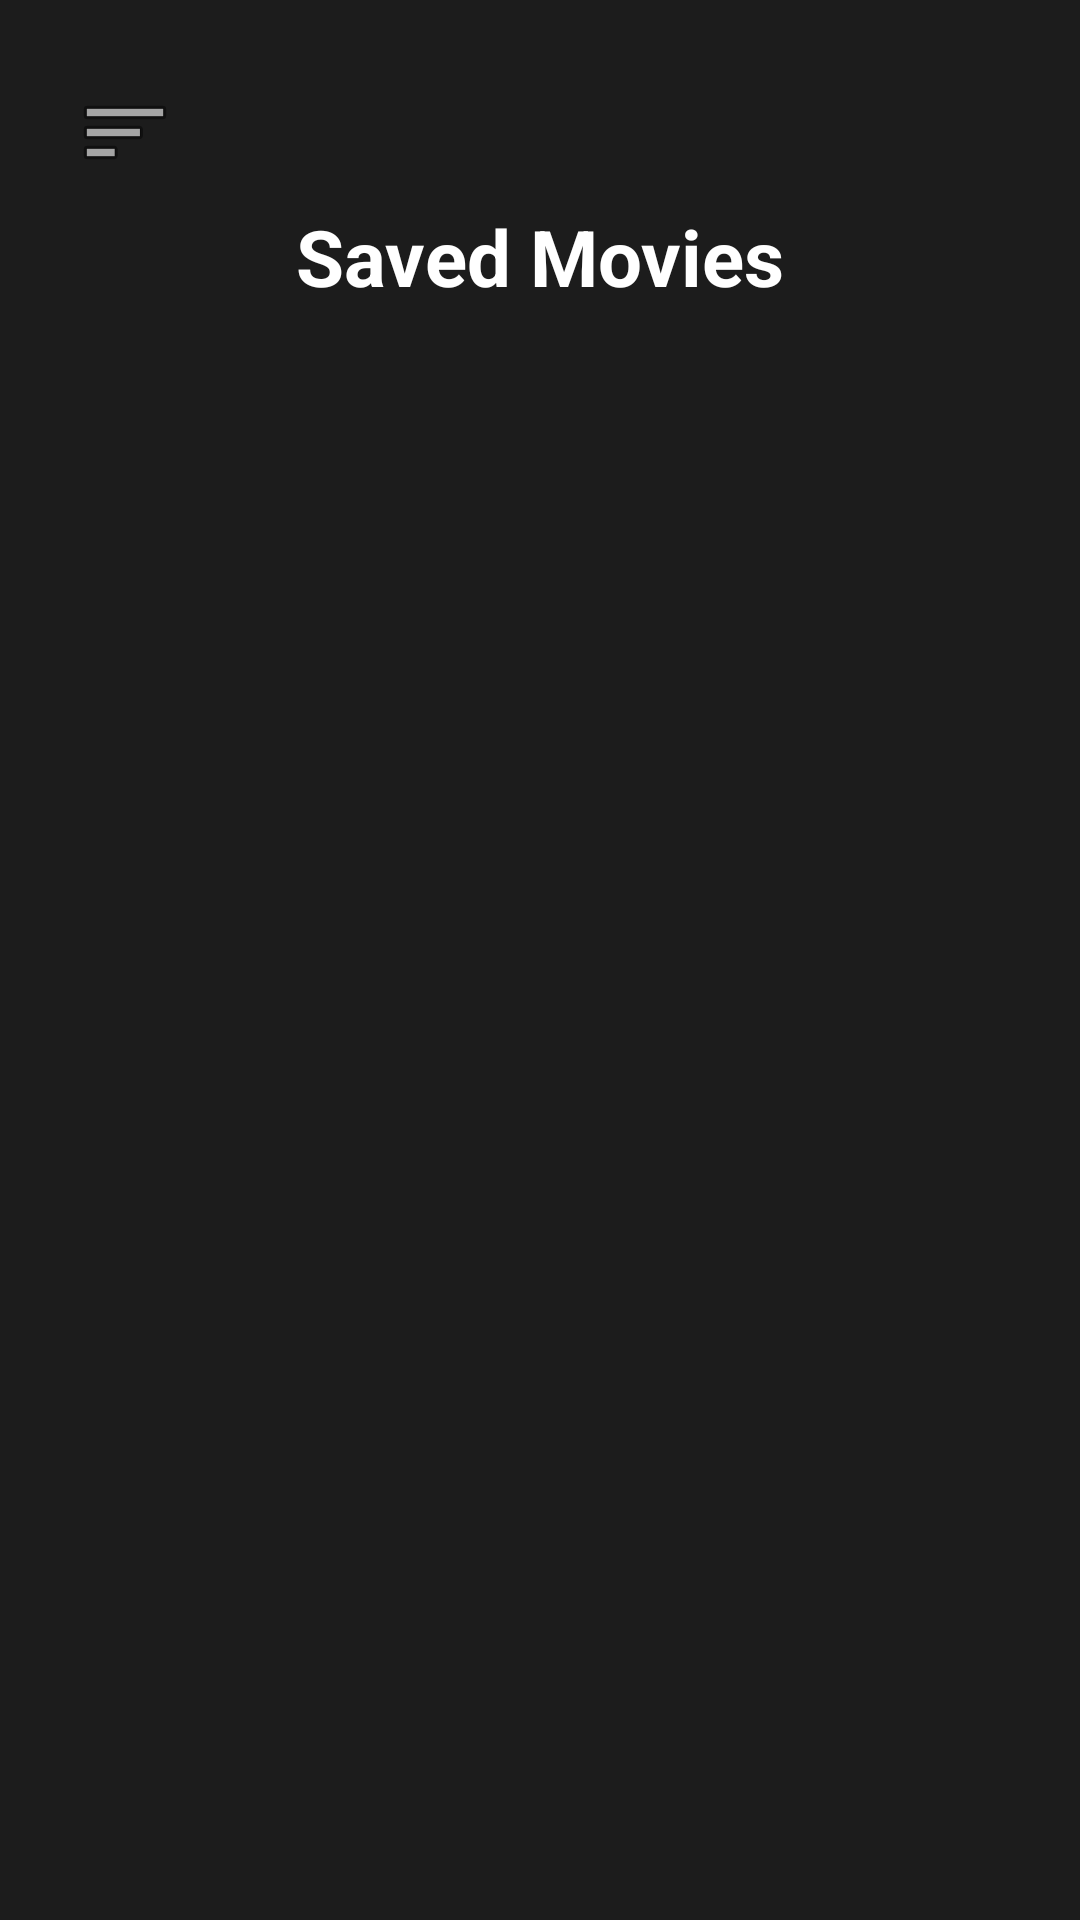

Icon bounding boxes for this 1080*1920 phone screenshot, format (x1,y1,x2,y2):
Open Menu: (87,109,163,156)
